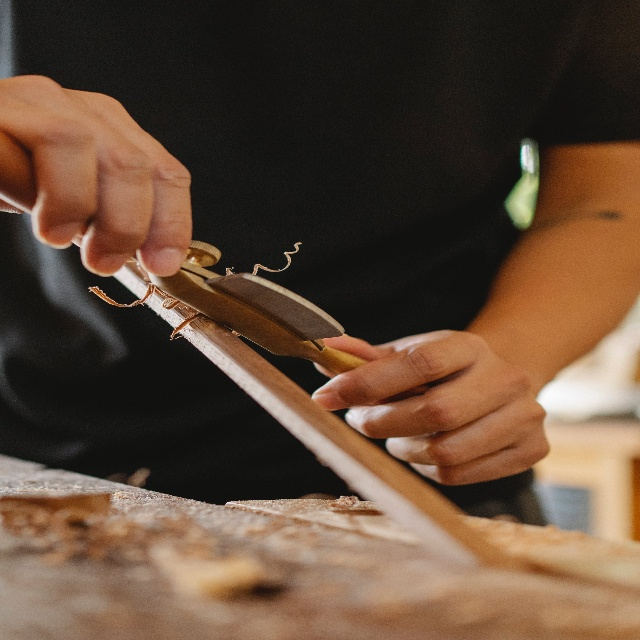Sin_guantes: (0, 76, 194, 280), (310, 336, 550, 486)
